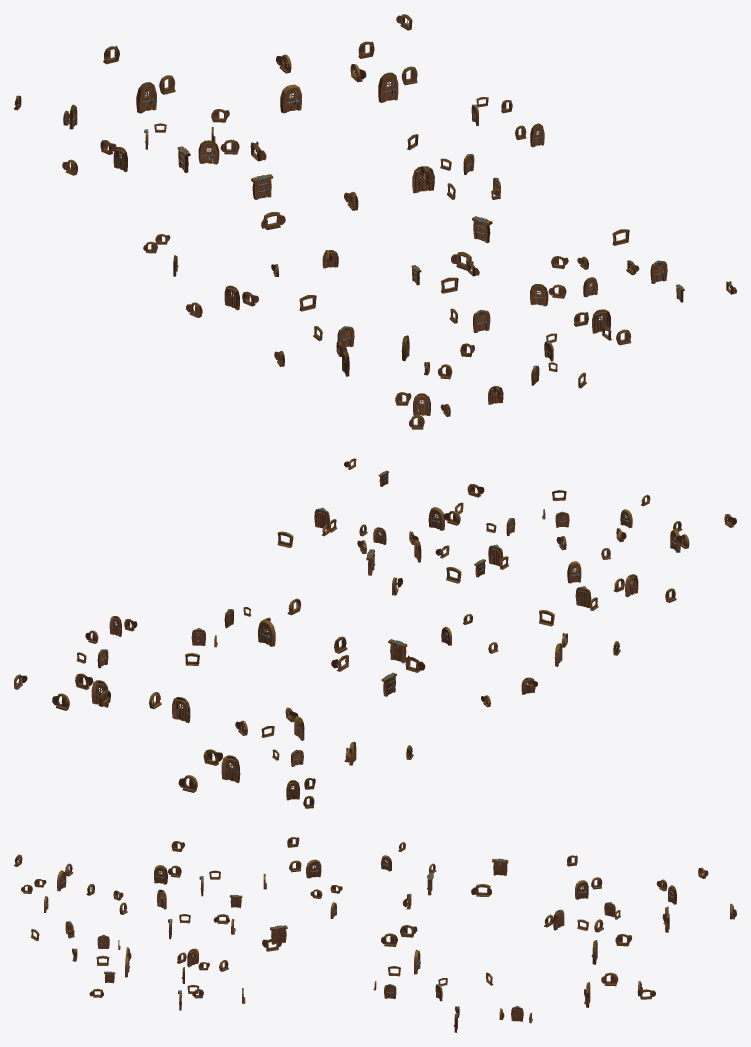
File: Windblock2.FBX
3 renders of one model, top to bottom at view 1: azimuth 30°, elevation 25°; view 2: azimuth 150°, elevation 25°; view 3: azimuth 270°, elevation 25°, orthographic. The views are drawn at different scales.
Visible parts, largest first — view 1: polySurface277; view 2: polySurface277; view 3: polySurface277.
Boxes of the visible parts, x1,y1,x2,y2 form: polySurface277: [14, 14, 736, 429]; polySurface277: [14, 458, 736, 808]; polySurface277: [14, 837, 736, 1032].
Bounding box in the file's own units: 5643 × 651 × 9698.
